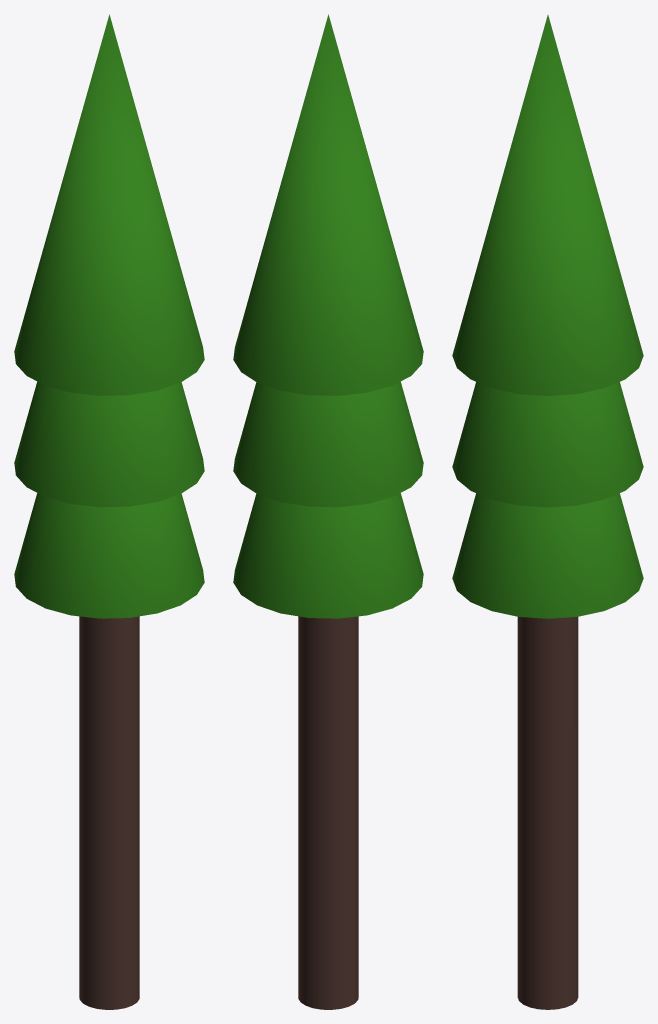
File: arvorezinha.fbx
The picture shows the model from 3 angles, left to right: view 1: azimuth 30°, elevation 25°; view 2: azimuth 150°, elevation 25°; view 3: azimuth 270°, elevation 25°; orthographic projection.
Visible parts, largest first — view 1: pCone3, pCylinder1, pCone1, pCone2; view 2: pCone3, pCylinder1, pCone1, pCone2; view 3: pCone3, pCylinder1, pCone1, pCone2.
Part boxes in pixels (<box>): pCone3: <box>14,14,204,395</box>; pCylinder1: <box>79,616,139,1009</box>; pCone1: <box>14,493,204,618</box>; pCone2: <box>14,381,204,507</box>; pCone3: <box>233,14,423,395</box>; pCylinder1: <box>298,616,358,1009</box>; pCone1: <box>233,493,423,618</box>; pCone2: <box>233,381,423,507</box>; pCone3: <box>452,15,643,395</box>; pCylinder1: <box>517,617,578,1009</box>; pCone1: <box>452,493,643,618</box>; pCone2: <box>452,382,643,507</box>.
Bounding box in the file's own units: 3.44 × 19.48 × 3.44.
